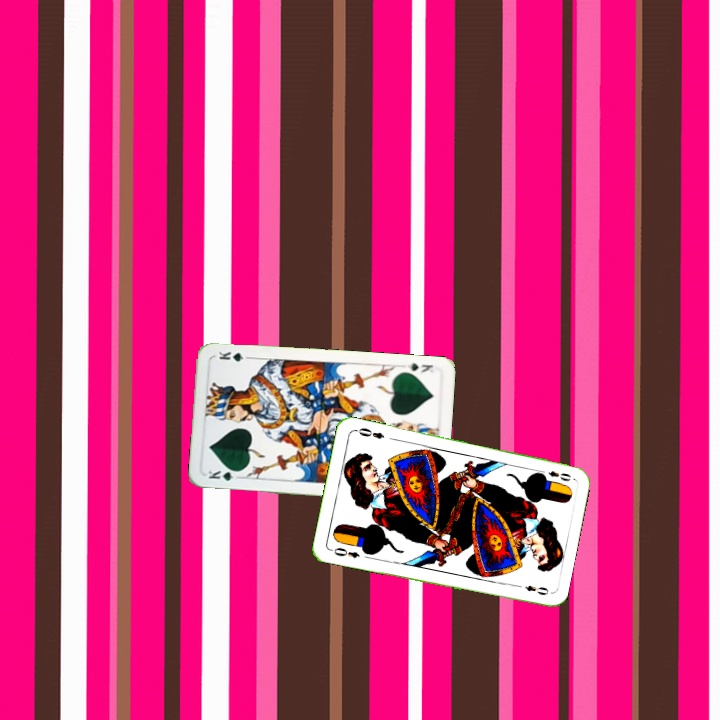EO: (535, 465, 573, 484), (326, 543, 363, 561)
GK: (204, 466, 244, 483), (403, 359, 436, 376)
